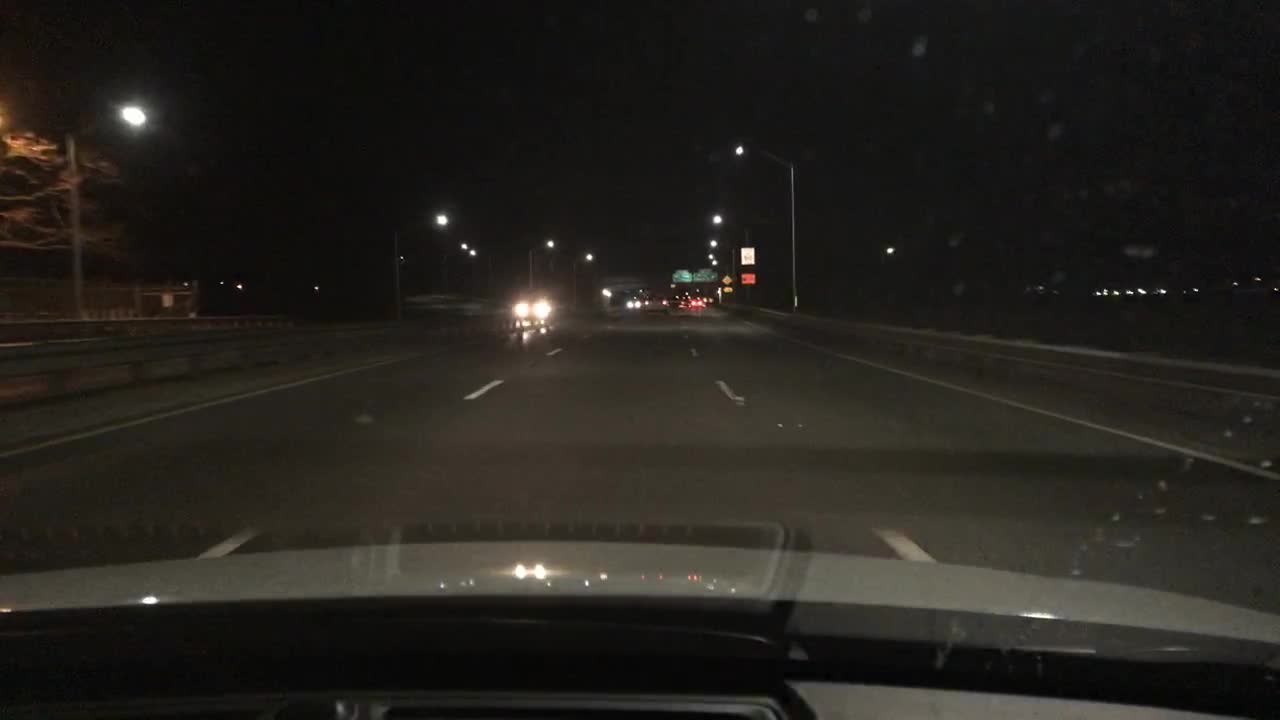car: (510, 294, 552, 322), (640, 293, 671, 317), (622, 297, 640, 312), (689, 296, 705, 310), (678, 294, 691, 307)
traffic light: (691, 266, 718, 281), (739, 244, 753, 264), (669, 267, 689, 281), (739, 271, 757, 286), (720, 273, 731, 283), (722, 286, 734, 293)
